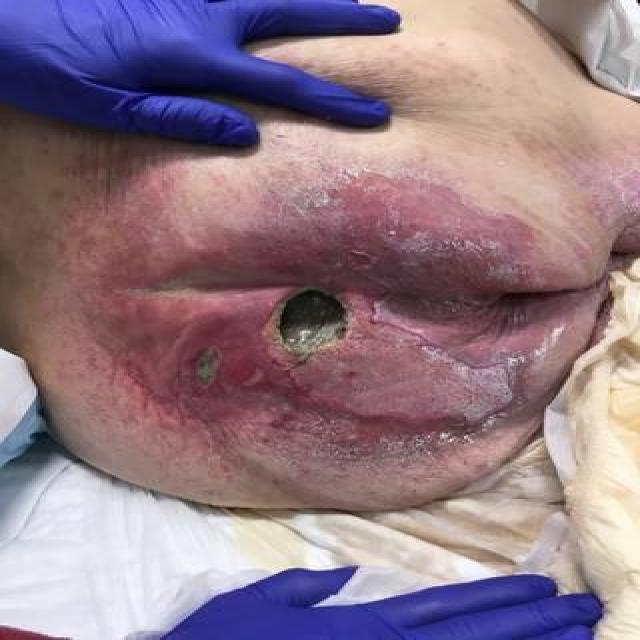Unstageable: (280, 290, 347, 356), (193, 342, 225, 388)
